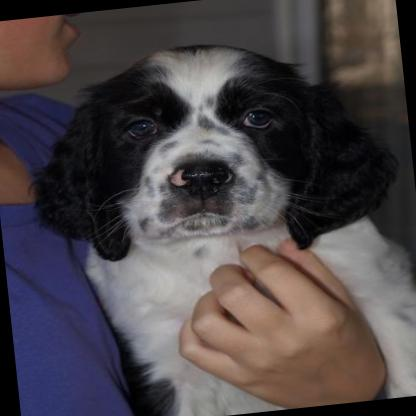English_setter: (11, 17, 416, 416)
